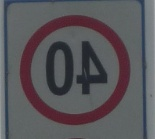Speed limit: (11, 6, 137, 128)
